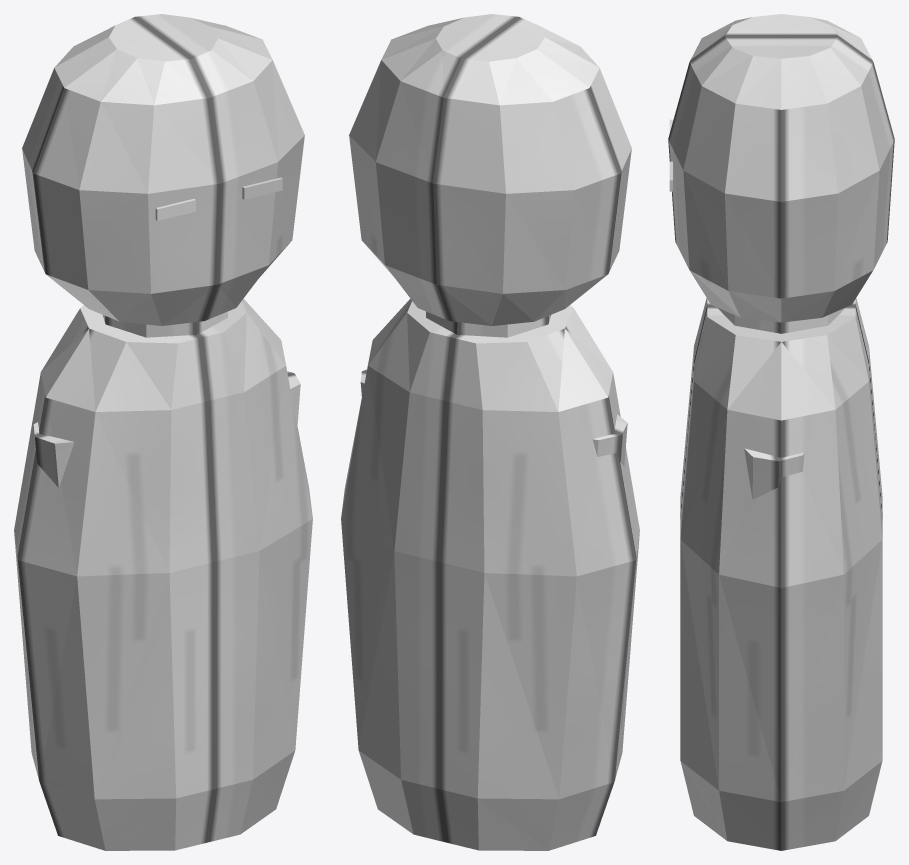
Rendered from ritual_effigy.obj.
The picture shows the model from 3 angles, left to right: view 1: azimuth 30°, elevation 25°; view 2: azimuth 150°, elevation 25°; view 3: azimuth 270°, elevation 25°; orthographic projection.
Visible parts, largest first — view 1: ritual_effigy; view 2: ritual_effigy; view 3: ritual_effigy.
Boxes of the visible parts, left/top/right/bottom form: ritual_effigy: left=14, top=14, right=312, bottom=850; ritual_effigy: left=341, top=14, right=639, bottom=850; ritual_effigy: left=668, top=14, right=894, bottom=850.
Size of the model in its own units: 0.47 by 1.19 by 0.32.
